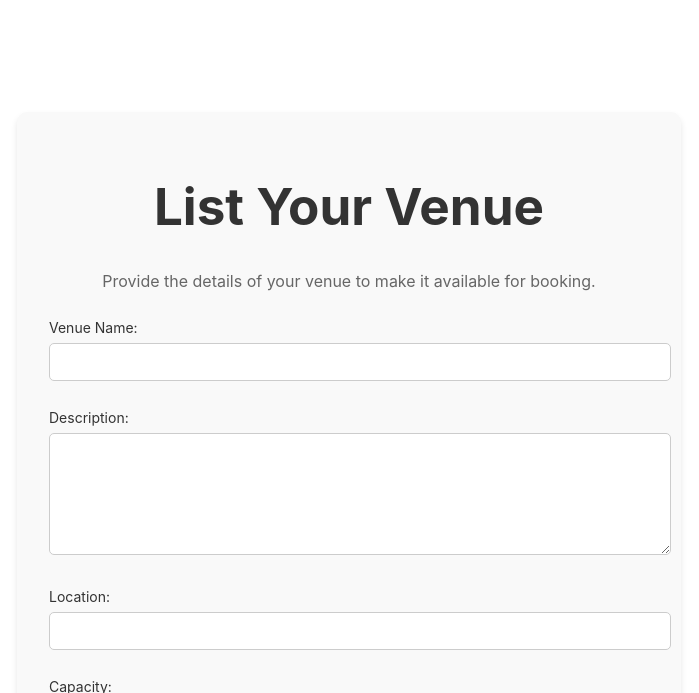
Test: ListVenue › submits form and displays success message
Note: Fill out the form
Type "Test Venue" into the field labelled "Venue Name:".
click(360, 362); type("Test Venue")  # box [49, 343, 671, 381]
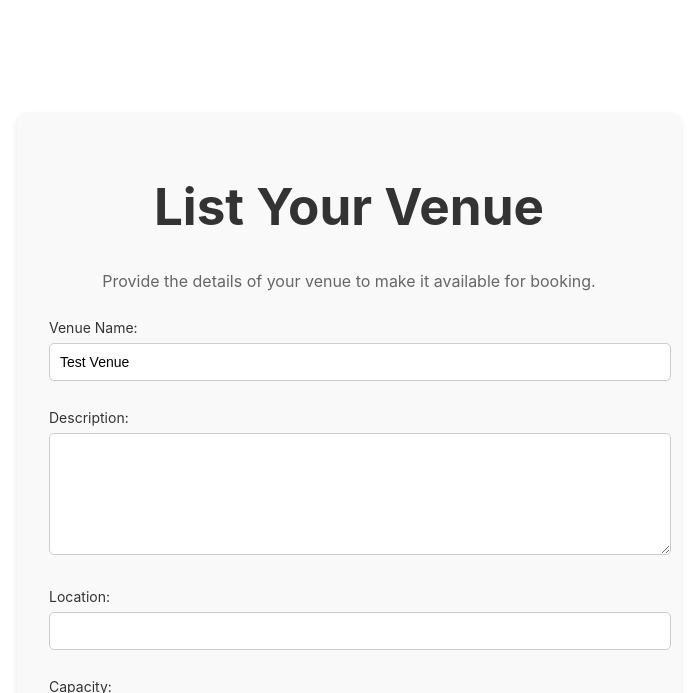
Type "Test Description" into the text box labelled "Description:".
click(360, 494); type("Test Description")  # box [49, 433, 671, 555]
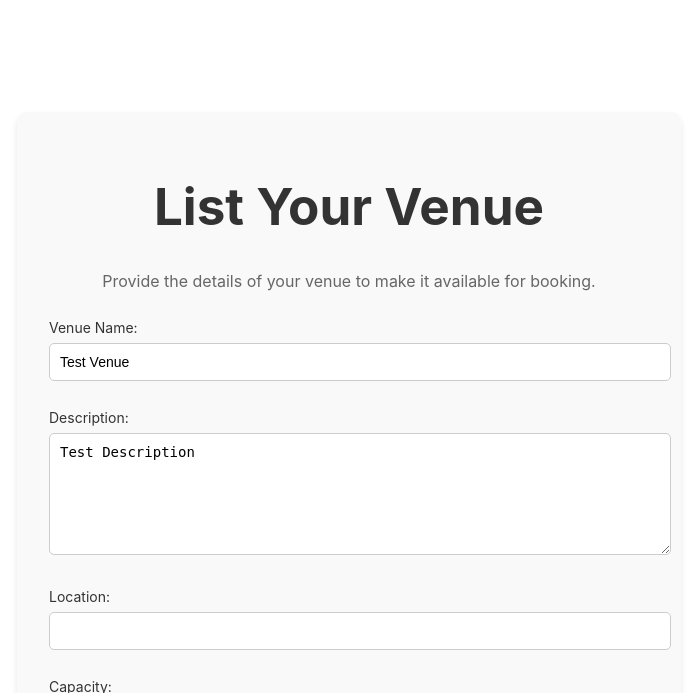
Type "Test Location" into the field labelled "Location:".
click(360, 631); type("Test Location")  # box [49, 612, 671, 650]
(page scrolled)
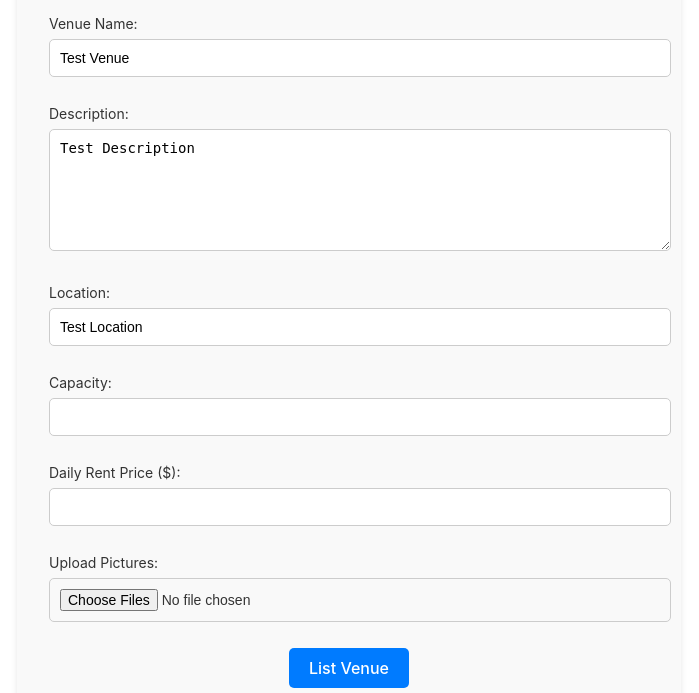
Type "100" into the number field labelled "Capacity:".
click(360, 417); type("100")  # box [49, 398, 671, 436]
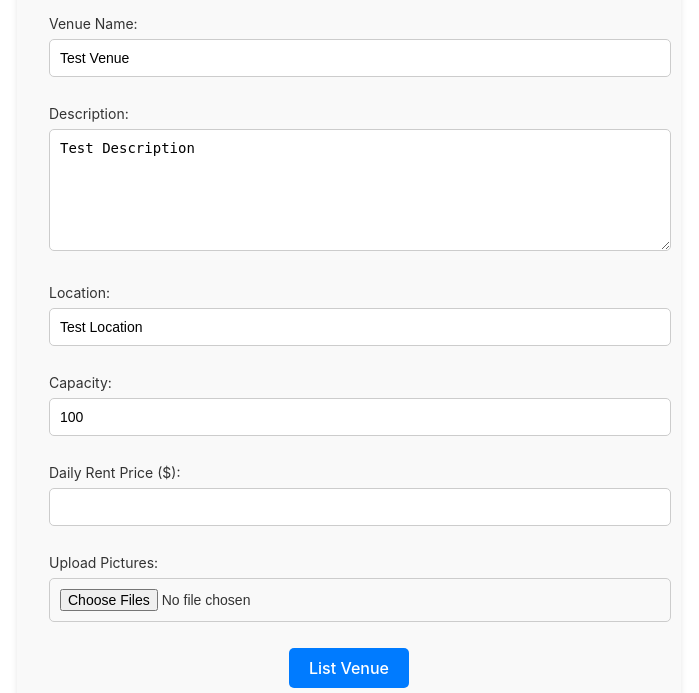
Type "500" into the number field labelled "Daily Rent Price ($):".
click(360, 507); type("500")  # box [49, 488, 671, 526]
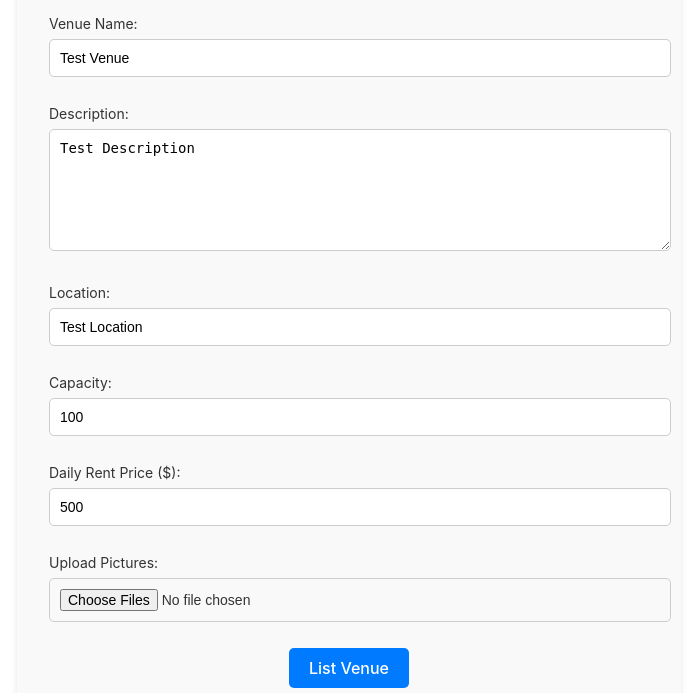
Note: Submit the form
Click the button "List Venue".
click(349, 668)  # box [289, 648, 409, 688]
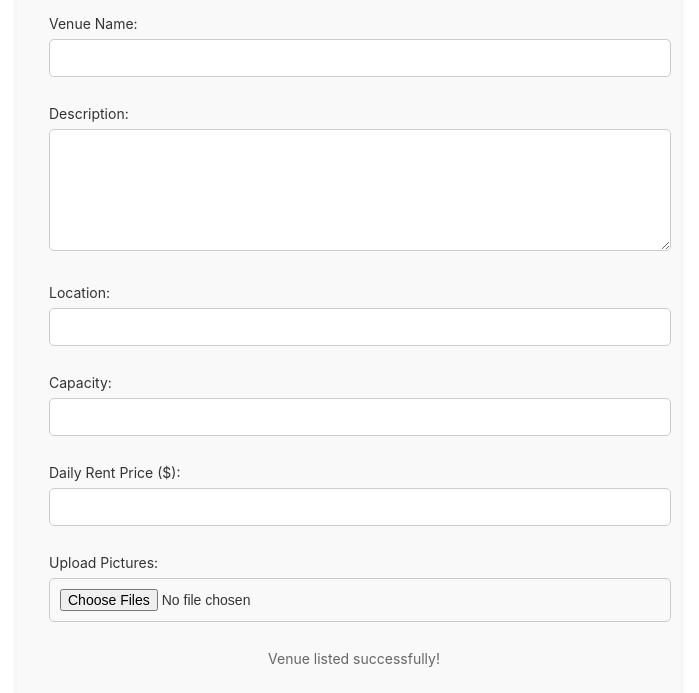
Now the text "Venue listed successfully!" is shown, box [268, 650, 440, 667]
